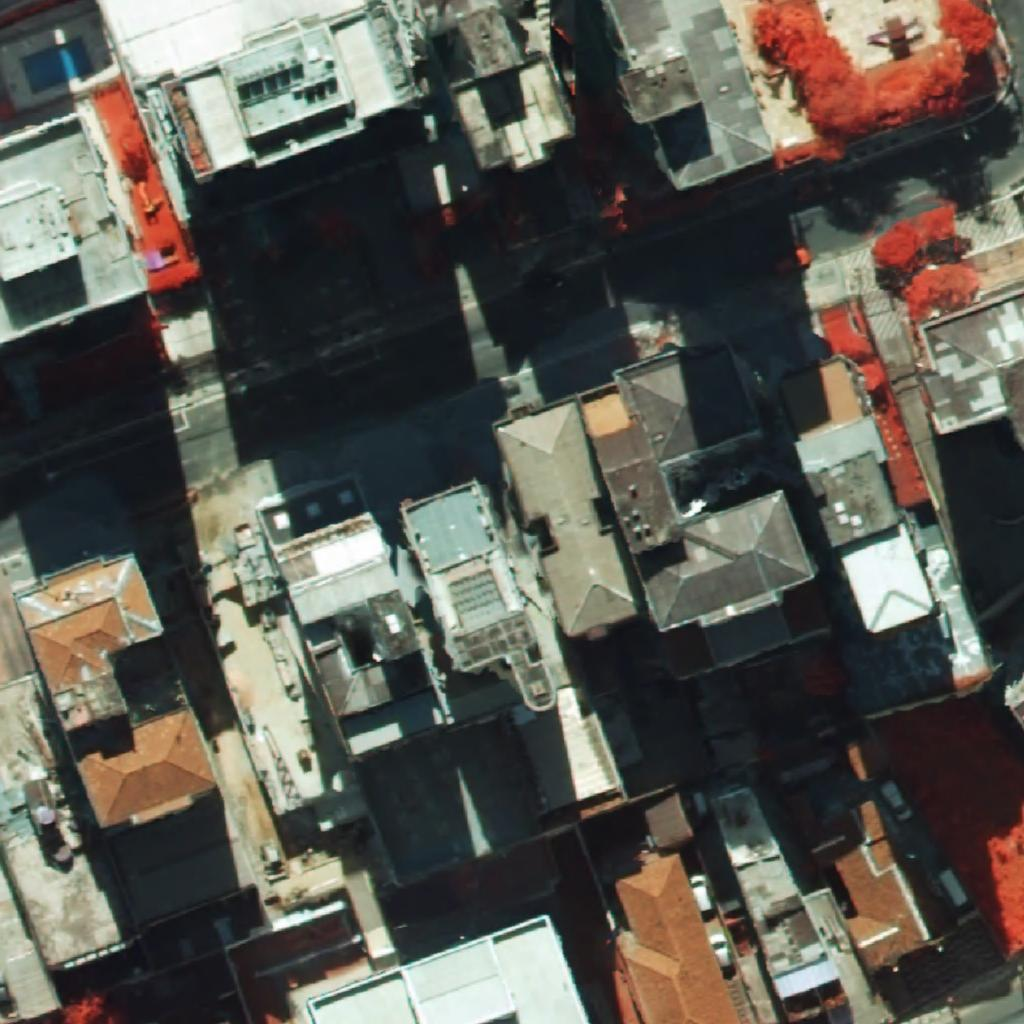pool: (22, 38, 93, 95)
